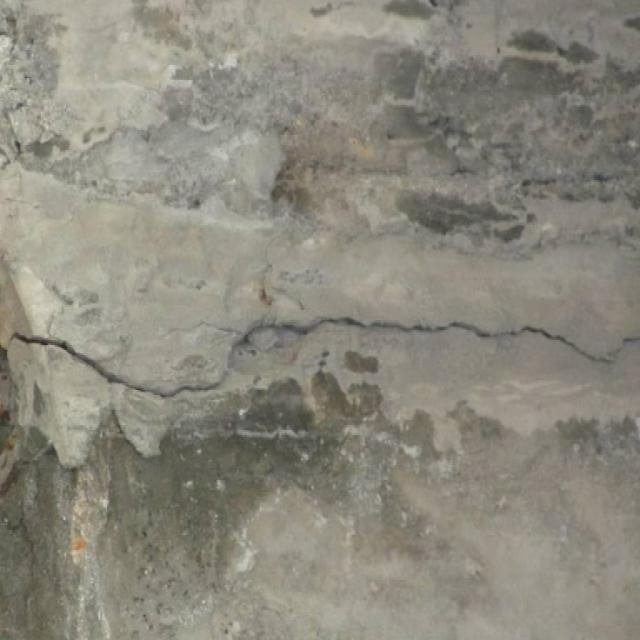Transverse: (4, 316, 640, 405)
